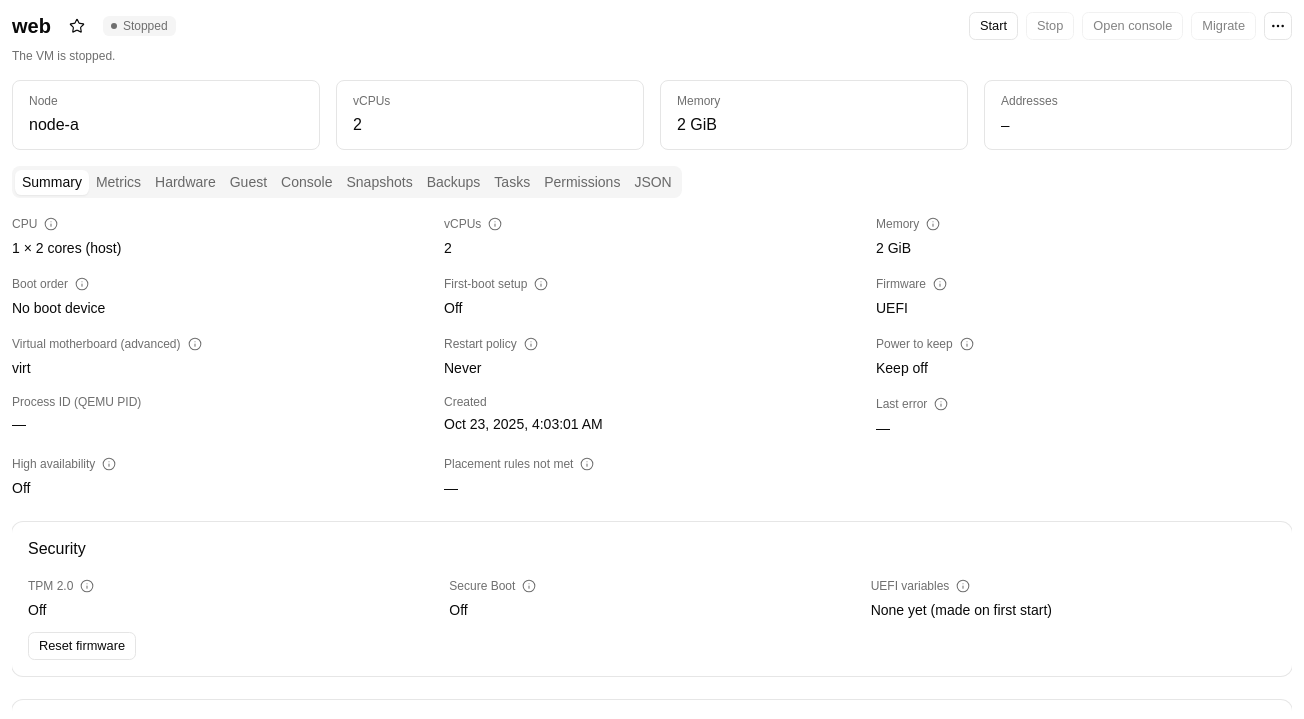
Scenario: VM menu › hides the export from users without vm.export (operators)
Click the button named "Actions for web".
click(1278, 26)  # box x1=1264 y1=12 x2=1292 y2=40
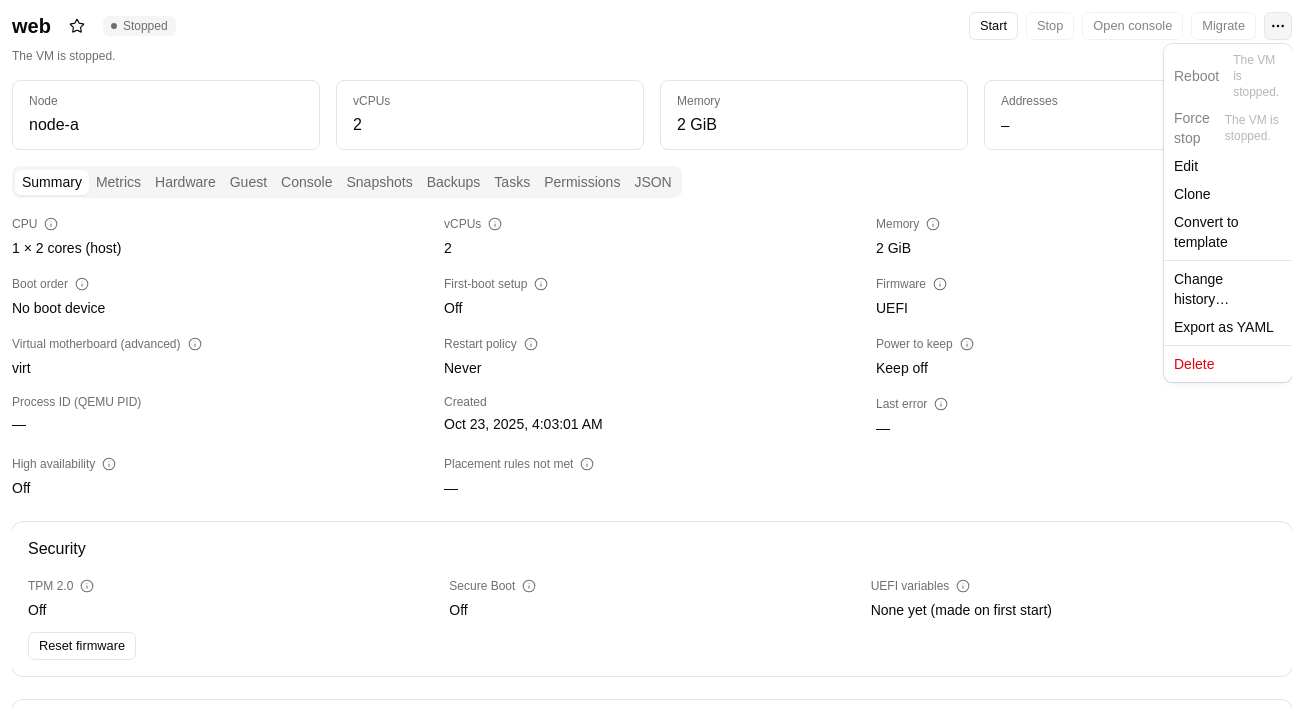
Now the menu item "Edit" is shown, box x1=1174 y1=158 x2=1198 y2=174
